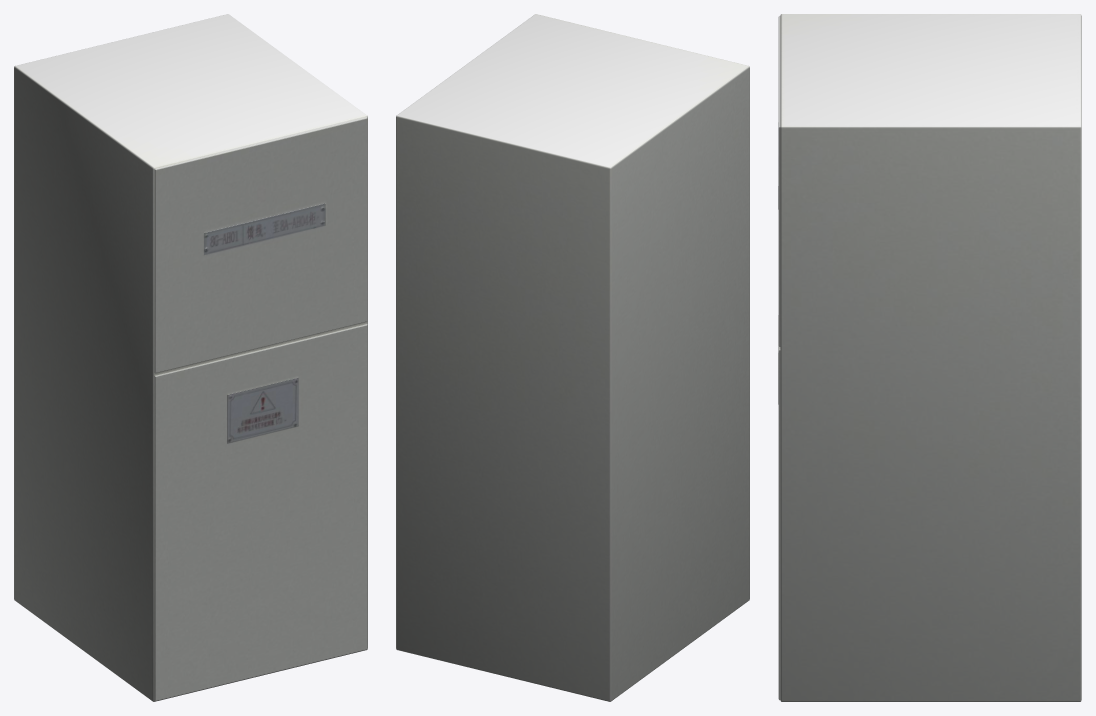
Rendered from hou90.obj.
The picture shows the model from 3 angles, left to right: view 1: azimuth 30°, elevation 25°; view 2: azimuth 150°, elevation 25°; view 3: azimuth 270°, elevation 25°; orthographic projection. The views are drawn at different scales.
Visible parts, largest first — view 1: ChamferBox44; view 2: ChamferBox44; view 3: ChamferBox44.
Boxes of the visible parts, x1,y1,x2,y2 form: ChamferBox44: (14, 14, 367, 701); ChamferBox44: (396, 14, 749, 701); ChamferBox44: (778, 14, 1081, 701).
Bounding box in the file's own units: 80 × 190 × 90.6.
